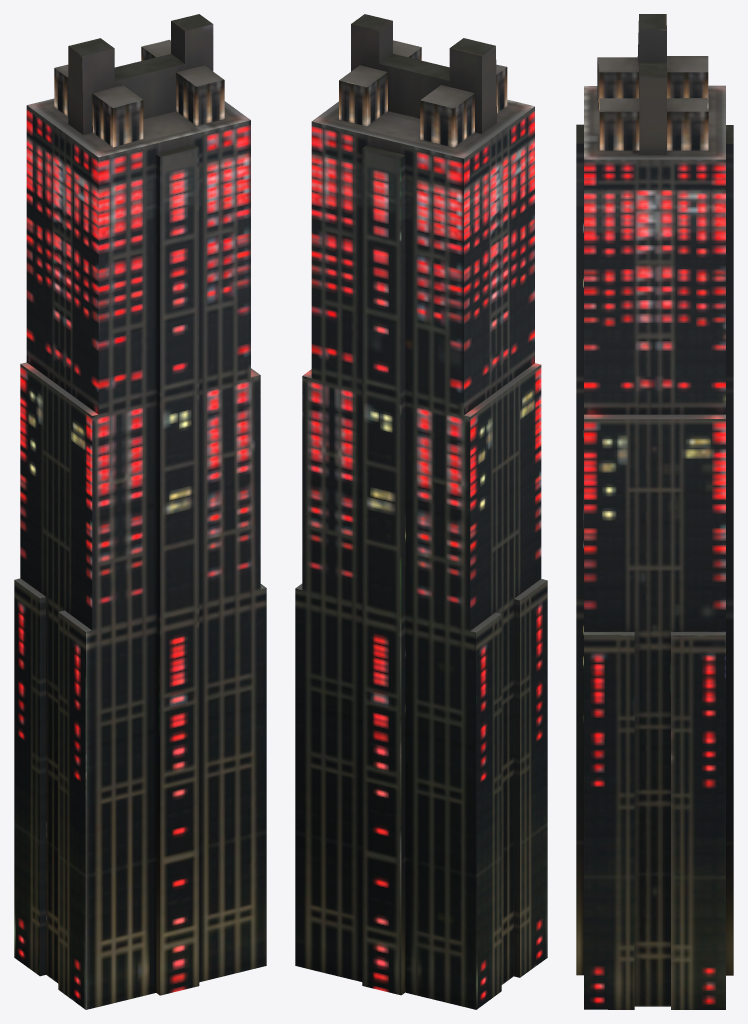
The model's file is background_buildings_1.009_background_buildings_1_0_lev3.glb.
The picture shows the model from 3 angles, left to right: view 1: azimuth 30°, elevation 25°; view 2: azimuth 150°, elevation 25°; view 3: azimuth 270°, elevation 25°; orthographic projection.
Visible parts, largest first — view 1: background_buildings_1.009_background_buildings_1_0_lev3; view 2: background_buildings_1.009_background_buildings_1_0_lev3; view 3: background_buildings_1.009_background_buildings_1_0_lev3.
Boxes of the visible parts, box(x1,y1,x2,y2) form: background_buildings_1.009_background_buildings_1_0_lev3: box(14, 14, 266, 1009); background_buildings_1.009_background_buildings_1_0_lev3: box(295, 14, 547, 1009); background_buildings_1.009_background_buildings_1_0_lev3: box(576, 14, 733, 1009).
Size of the model in its own units: 11.02 by 53.86 by 8.34.
1 material, 1 textured.
